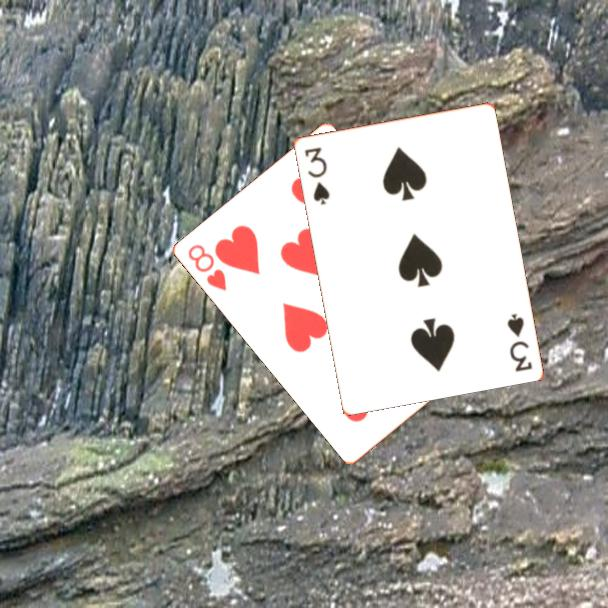h08: (185, 241, 230, 294)
s03: (503, 310, 535, 374), (301, 143, 332, 207)
